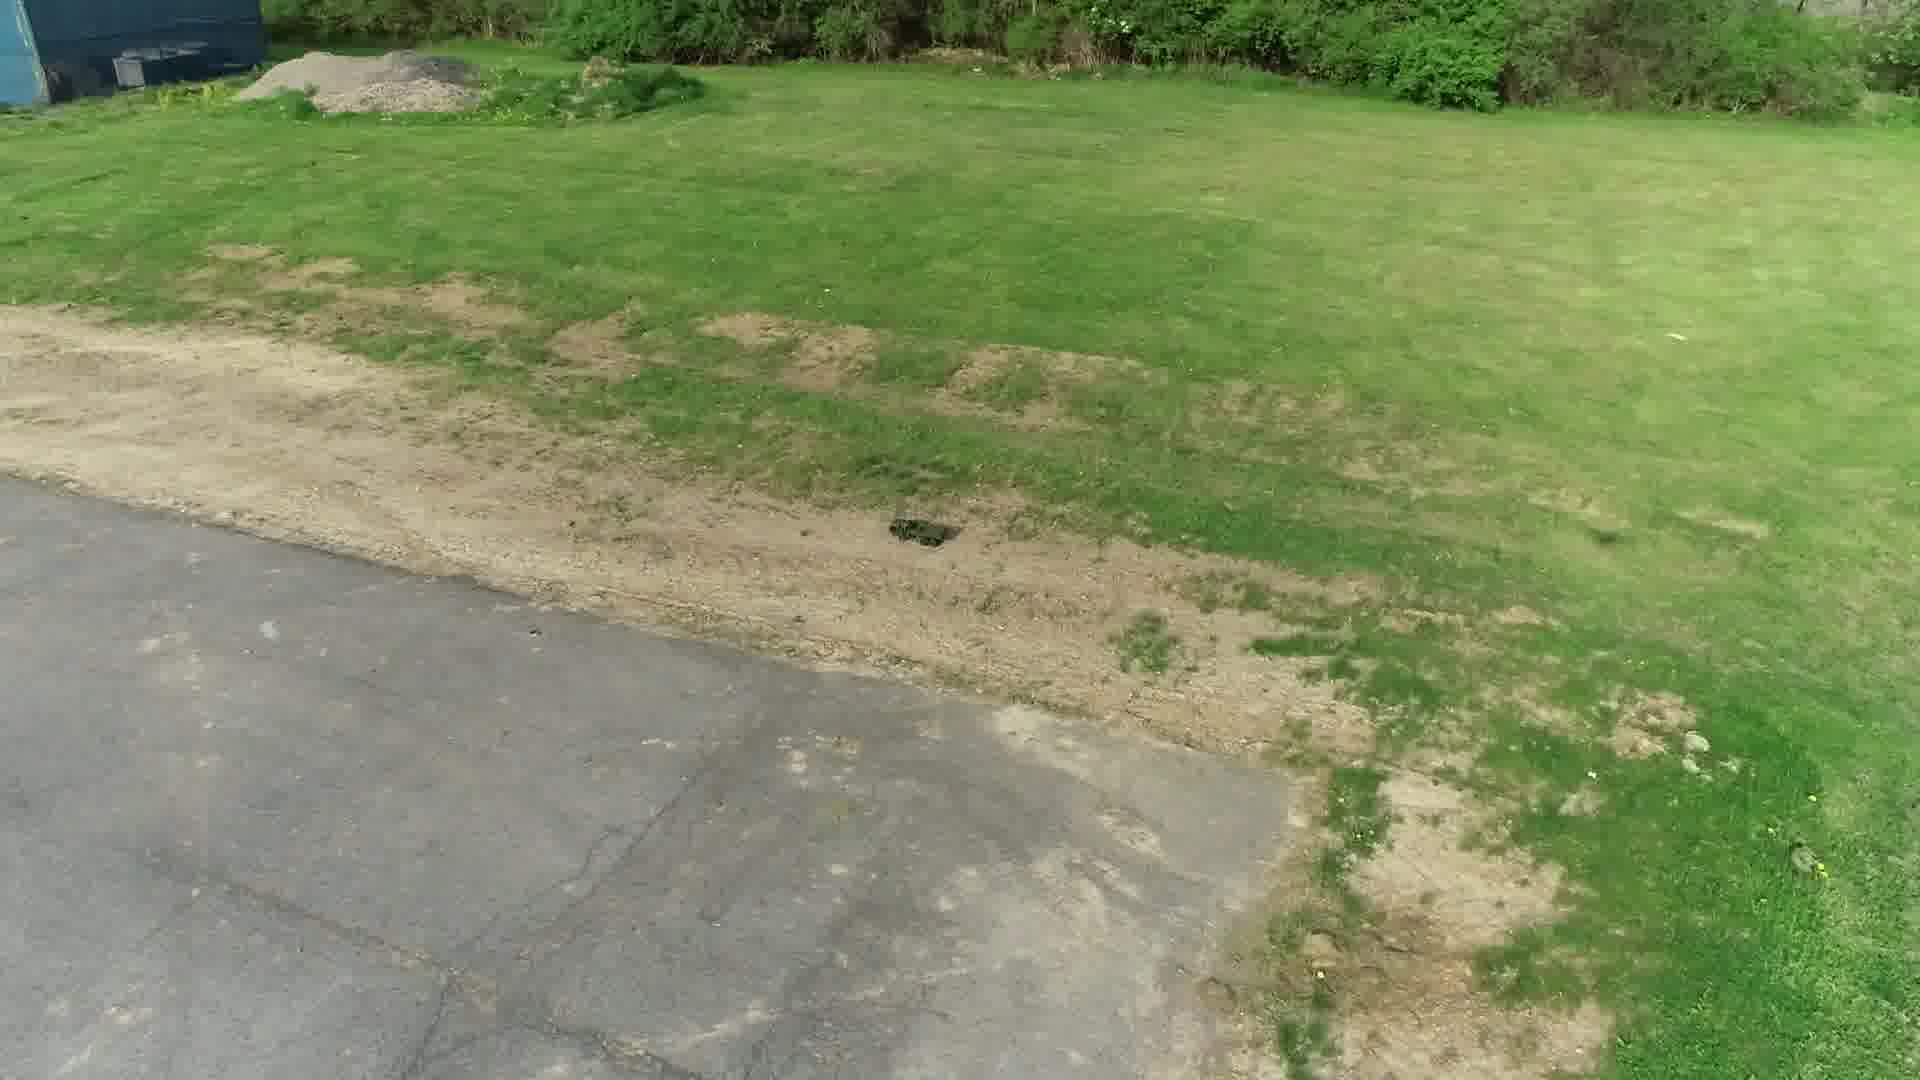transporter9: (881, 516, 955, 549)
